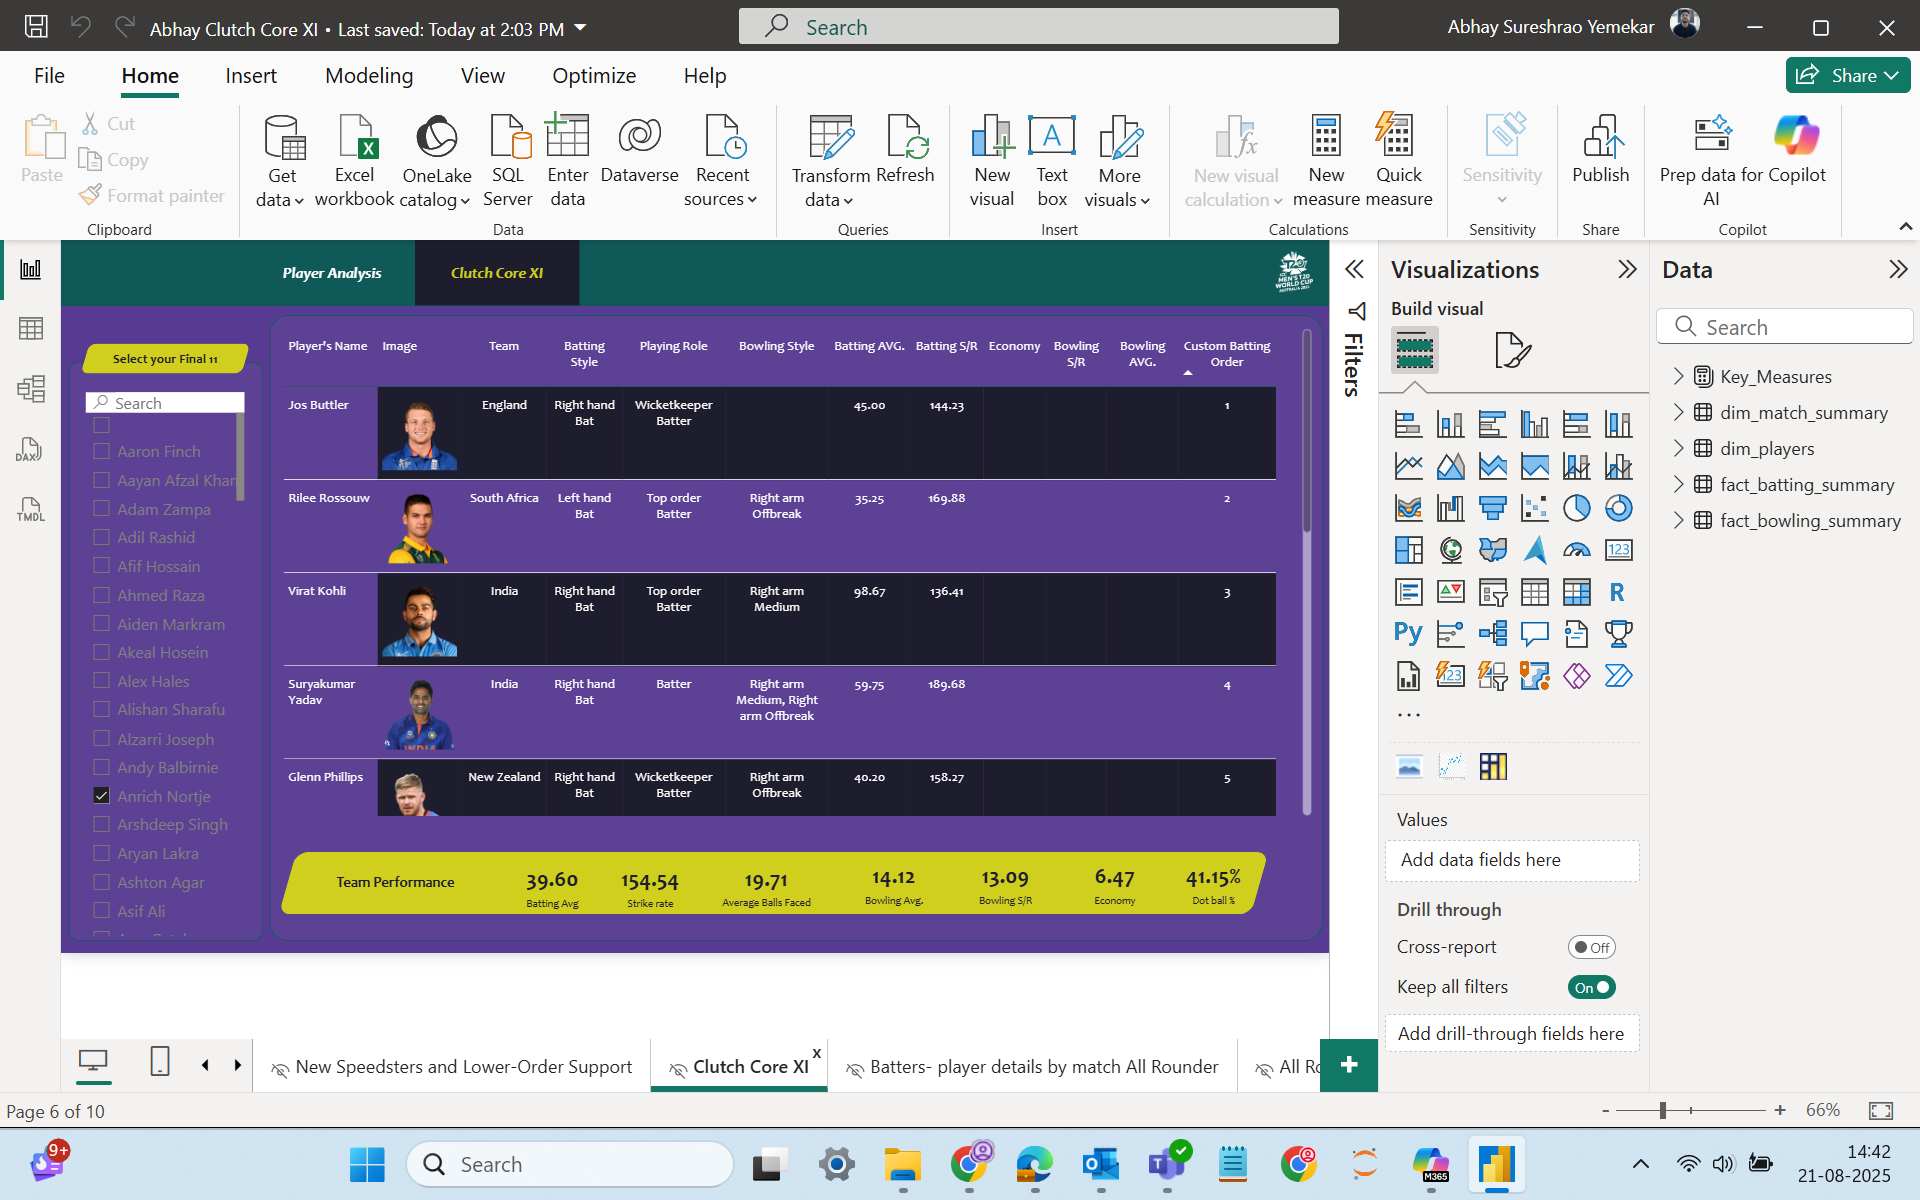

The page's visual inventory and layout, read from the dashboard file:
{"tool":"powerbi","page":{"name":"Clutch Core XI","canvas":[1280,720],"ordinal":0},"visuals":[{"type":"shape","box":[0,66,1280,654],"z":0},{"type":"card","fields":{"Values":["Key_Measures.Strike rate"]},"box":[867,89,93,60],"z":0,"group":"g2"},{"type":"group","id":"g1","title":"Group 2","box":[83.8,116.2,260,31.2],"z":0,"group":"g3"},{"type":"shape","box":[83.8,116.2,260,31.2],"z":0,"group":"g1"},{"type":"card","fields":{"Values":["Key_Measures.Bat Avg"]},"box":[768,89,92,60],"z":1000,"group":"g2"},{"type":"image","box":[38,114,44,36],"z":1000,"group":"g3"},{"type":"shape","box":[20,414.4,832.2,283.3],"z":1000},{"type":"actionButton","box":[734,42.6,111,42],"z":2000},{"type":"card","fields":{"Values":["Key_Measures.Boundary %"]},"box":[1063.6,92.3,110,56.7],"z":2000,"group":"g2"},{"type":"actionButton","box":[596,42.6,144,42],"z":3000},{"type":"card","fields":{"Values":["Key_Measures.Avergate Balls Faced"]},"box":[966,89,101,60],"z":3000,"group":"g2"},{"type":"actionButton","box":[838,42.6,101,42],"z":4000},{"type":"actionButton","box":[932,42.6,115,42],"z":5000},{"type":"actionButton","box":[1039,42.6,171,42],"z":6000},{"type":"image","box":[1220,3,48,59],"z":7000},{"type":"areaChart","fields":{"Category":["dim_match_summary.Match_Date.Variation.Date Hierarchy.Day"],"Y":["Key_Measures.Boundary %"]},"box":[438.8,560,406.2,126.2],"z":9000},{"type":"shape","box":[860,414,397,284],"z":10000},{"type":"areaChart","fields":{"Category":["dim_match_summary.Match_Date.Variation.Date Hierarchy.Day"],"Y":["Key_Measures.Avergate Balls Faced"]},"box":[438.8,428.8,406.2,126.2],"z":11000},{"type":"areaChart","fields":{"Category":["dim_match_summary.Match_Date.Variation.Date Hierarchy.Day"],"Y":["Key_Measures.Bat Avg"]},"box":[40,428.9,395.6,126.7],"z":12000},{"type":"areaChart","fields":{"Category":["dim_match_summary.Match_Date.Variation.Date Hierarchy.Day"],"Y":["Key_Measures.Strike rate"]},"box":[40,560,396.2,126.2],"z":13000},{"type":"shape","box":[20,102.2,1236.7,304.4],"z":14000},{"type":"slicer","fields":{"Values":["dim_match_summary.stage"]},"box":[366.7,111.1,191.1,38.9],"z":15000},{"type":"shape","box":[572,88,622,63],"z":16000},{"type":"shape","box":[591,103,173,34],"z":17000},{"type":"group","id":"g2","title":"Combined Perfoamce Metrices","box":[768,89,405.6,60],"z":18000},{"type":"group","id":"g3","title":"Group 1","box":[38,114,305.8,36],"z":19000},{"type":"tableEx","fields":{"Values":["dim_player.name","dim_player.team","dim_player.Batting Style","Key_Measures.Total Matches","Key_Measures.Total Runs","Key_Measures.total balls faced","Key_Measures.Strike rate","Key_Measures.Bat Avg","Key_Measures.Batting Position","Key_Measures.Boundary %"]},"box":[26,151,1231,255],"z":20000},{"type":"scatterChart","fields":{"Y":["Key_Measures.Strike rate"],"Category":["dim_player.name"],"X":["Key_Measures.Bat Avg"],"Size":["Key_Measures.Total Runs"]},"box":[866.7,430,377.8,258.9],"z":21000},{"type":"actionButton","title":"Button Player Ana selected","box":[191,0,166,66],"z":22000},{"type":"actionButton","title":"Button Player Ana selected","box":[357,0,166,66],"z":23000},{"type":"shape","box":[612,100,560,36],"z":24000}]}

Visuals, with their boxes on the page's 1280x720 design canvas (x1, y1, x2, y2). These are canvas units, not pixel positions in the 1920x1200 screenshot, which may show the page scaled, cropped or inside an application window:
shape: (0,66,1280,720)
card - Key_Measures.Strike rate: (867,89,960,149)
"Group 2" group: (84,116,344,147)
shape: (84,116,344,147)
card - Key_Measures.Bat Avg: (768,89,860,149)
image: (38,114,82,150)
shape: (20,414,852,698)
actionButton: (734,43,845,85)
card - Key_Measures.Boundary %: (1064,92,1174,149)
actionButton: (596,43,740,85)
card - Key_Measures.Avergate Balls Faced: (966,89,1067,149)
actionButton: (838,43,939,85)
actionButton: (932,43,1047,85)
actionButton: (1039,43,1210,85)
image: (1220,3,1268,62)
areaChart - dim_match_summary.Match_Date.Variation.Date Hierarchy.Day x Key_Measures.Boundary %: (439,560,845,686)
shape: (860,414,1257,698)
areaChart - dim_match_summary.Match_Date.Variation.Date Hierarchy.Day x Key_Measures.Avergate Balls Faced: (439,429,845,555)
areaChart - dim_match_summary.Match_Date.Variation.Date Hierarchy.Day x Key_Measures.Bat Avg: (40,429,436,556)
areaChart - dim_match_summary.Match_Date.Variation.Date Hierarchy.Day x Key_Measures.Strike rate: (40,560,436,686)
shape: (20,102,1257,407)
slicer - dim_match_summary.stage: (367,111,558,150)
shape: (572,88,1194,151)
shape: (591,103,764,137)
"Combined Perfoamce Metrices" group: (768,89,1174,149)
"Group 1" group: (38,114,344,150)
tableEx - dim_player.name x dim_player.team: (26,151,1257,406)
scatterChart - Key_Measures.Strike rate x dim_player.name: (867,430,1244,689)
"Button Player Ana selected" actionButton: (191,0,357,66)
"Button Player Ana selected" actionButton: (357,0,523,66)
shape: (612,100,1172,136)
